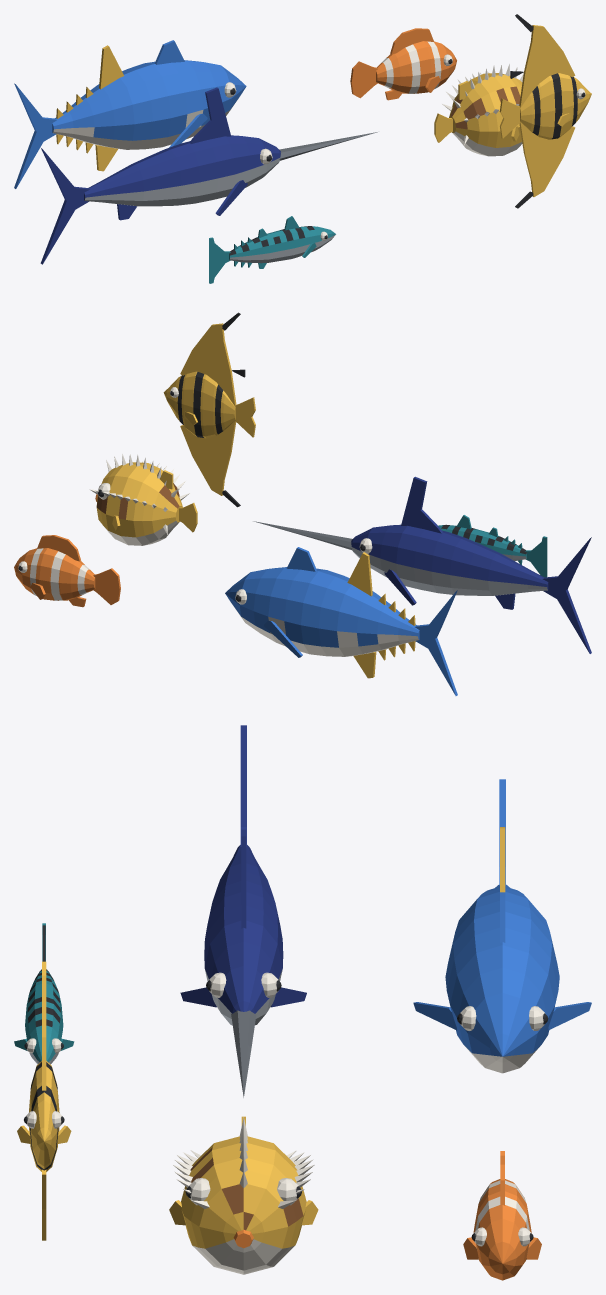
Rendered from low-poly-ocean-fish-set.glb.
3 views of the same model, one above another, from view 1: azimuth 30°, elevation 25°; view 2: azimuth 150°, elevation 25°; view 3: azimuth 270°, elevation 25° (orthographic). The views are drawn at different scales.
Parts seen in each view (by area): view 1: Tuna_Body, Swordfish_Body, Angelfish_BigFins, Puffer_Body, Angelfish_Body, Reef_Body, Mackerel_Body, Swordfish_Tail, Swordfish_Dorsal, Tuna_Tail, Tuna_FinsYellow, Reef_Fins (+10 smaller); view 2: Tuna_Body, Swordfish_Body, Puffer_Body, Angelfish_BigFins, Angelfish_Body, Reef_Body, Swordfish_Tail, Swordfish_Dorsal, Tuna_Tail, Mackerel_Body, Tuna_FinsYellow, Reef_Fins (+5 smaller); view 3: Tuna_Body, Puffer_Body, Swordfish_Body, Reef_Body, Angelfish_Body, Mackerel_Body, Puffer_Spikes, Swordfish_Bill, Angelfish_BigFins, Puffer_Eyes, Swordfish_Tail.
Part boxes in pixels (<box>): Tuna_Body: <box>52,60,246,149</box>; Swordfish_Body: <box>84,135,280,206</box>; Angelfish_BigFins: <box>519,25,575,196</box>; Puffer_Body: <box>449,73,522,156</box>; Angelfish_Body: <box>520,73,591,139</box>; Reef_Body: <box>376,41,456,93</box>; Mackerel_Body: <box>229,226,335,263</box>; Swordfish_Tail: <box>40,148,89,264</box>; Swordfish_Dorsal: <box>117,87,231,220</box>; Tuna_Tail: <box>14,83,56,188</box>; Tuna_FinsYellow: <box>95,45,123,171</box>; Reef_Fins: <box>385,28,433,100</box>; Tuna_Body: <box>225,567,419,656</box>; Swordfish_Body: <box>351,524,548,595</box>; Puffer_Body: <box>96,462,182,545</box>; Angelfish_BigFins: <box>180,323,236,495</box>; Angelfish_Body: <box>163,371,235,438</box>; Reef_Body: <box>14,548,95,600</box>; Swordfish_Tail: <box>542,537,591,653</box>; Swordfish_Dorsal: <box>401,476,515,609</box>; Tuna_Tail: <box>415,590,457,695</box>; Mackerel_Body: <box>438,524,526,560</box>; Tuna_FinsYellow: <box>347,552,376,678</box>; Reef_Fins: <box>37,535,86,607</box>; Tuna_Body: <box>445,884,559,1073</box>; Puffer_Body: <box>181,1136,306,1274</box>; Swordfish_Body: <box>204,845,283,1025</box>; Reef_Body: <box>473,1179,531,1280</box>; Angelfish_Body: <box>29,1061,59,1171</box>; Mackerel_Body: <box>25,969,63,1064</box>; Puffer_Spikes: <box>173,1117,314,1208</box>; Swordfish_Bill: <box>231,1010,256,1097</box>; Angelfish_BigFins: <box>42,961,46,1240</box>; Puffer_Eyes: <box>189,1178,298,1205</box>; Swordfish_Tail: <box>240,725,246,846</box>.
Bounding box in the file's own units: 14.34 × 5.36 × 8.97.
